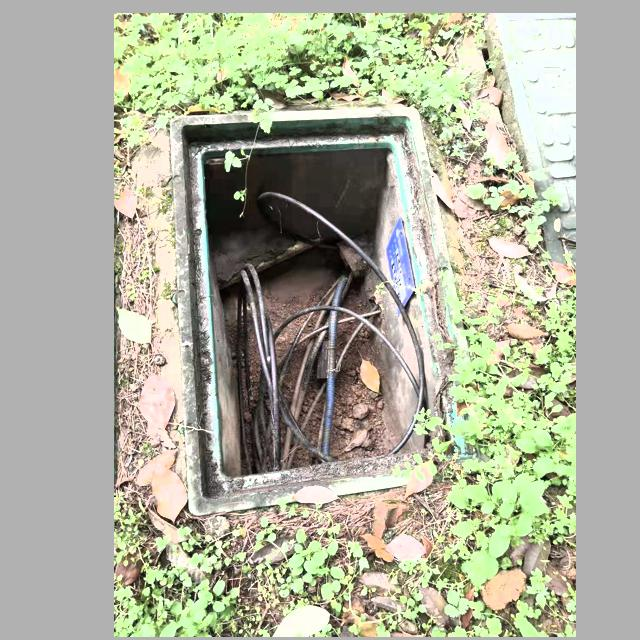lose: (170, 106, 479, 513)
